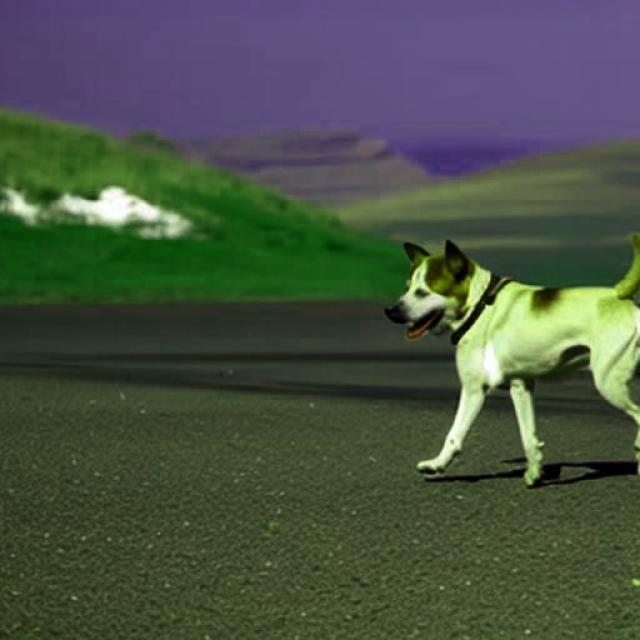Dog: (383, 233, 640, 487)
